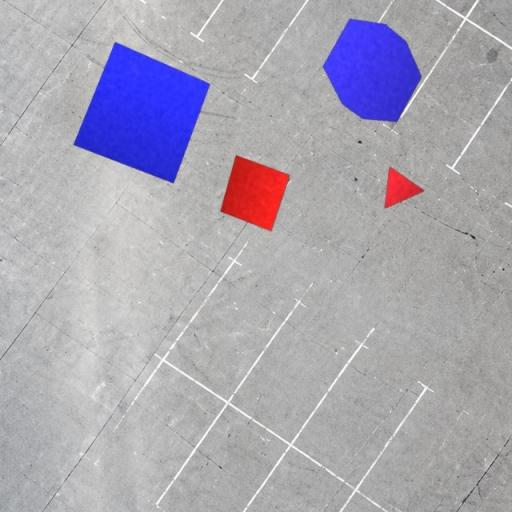BLUE_SQUARE: (73, 41, 211, 184)
RED_SQUARE: (220, 154, 290, 232)
